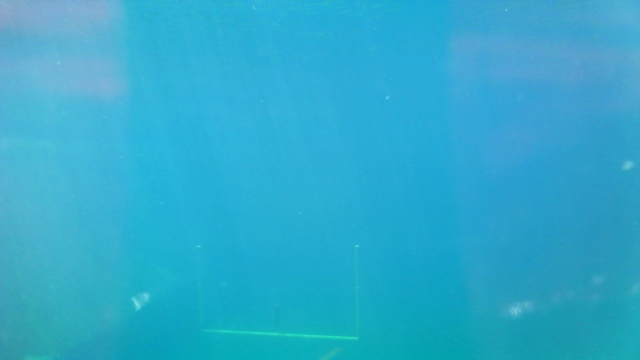channel: (191, 241, 361, 342)
